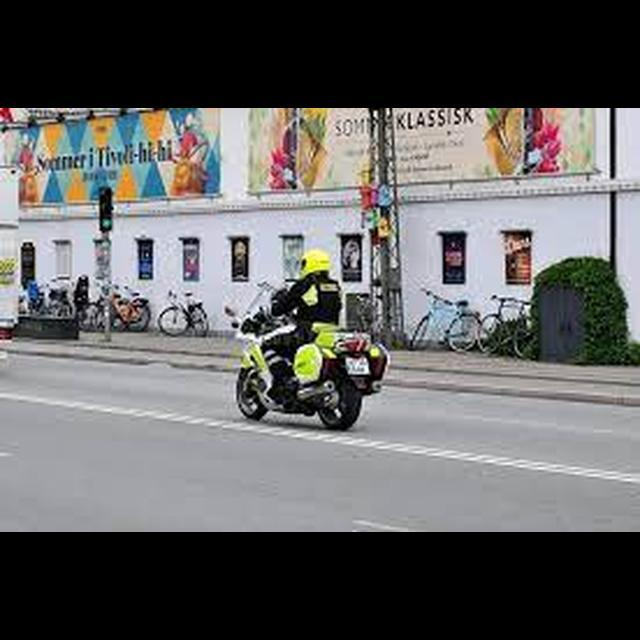motorcycle: (227, 275, 395, 433)
